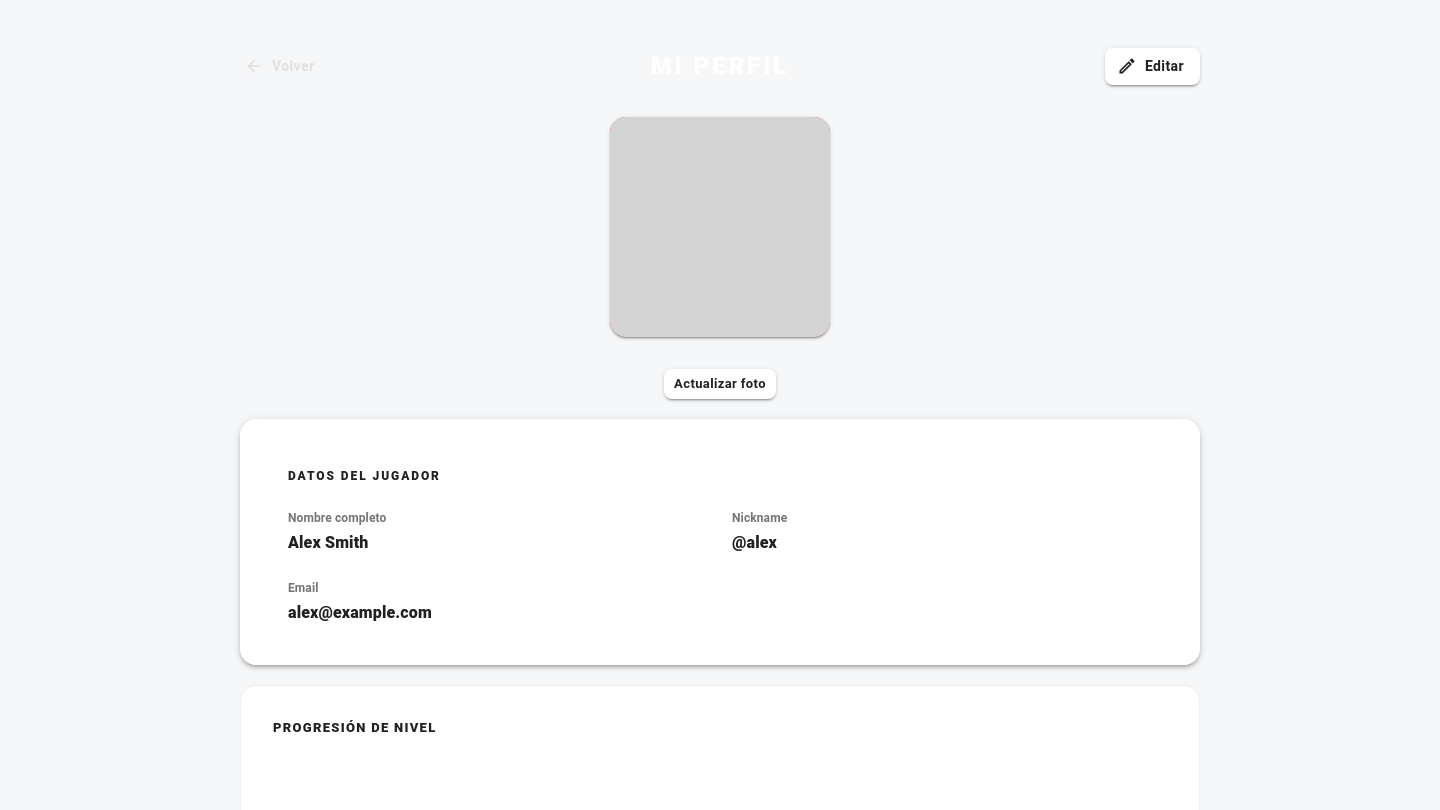
Scenario: UserProfilePage › disables saving when the edit form has no changes
Click the button "Editar": coordinates (1152, 66) [1105,48,1200,84]
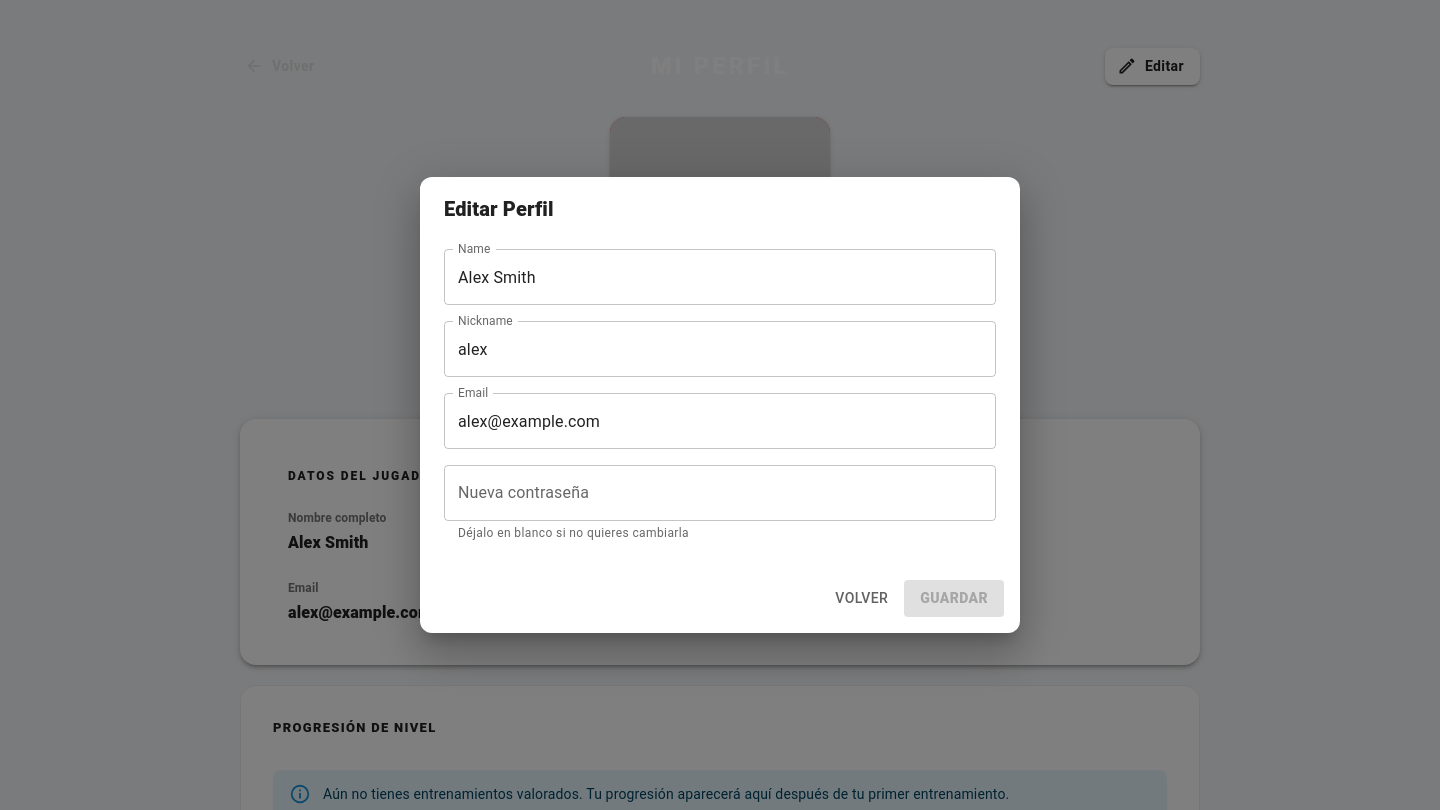
Expected: the button "GUARDAR" is disabled, [904,580,1004,617]
